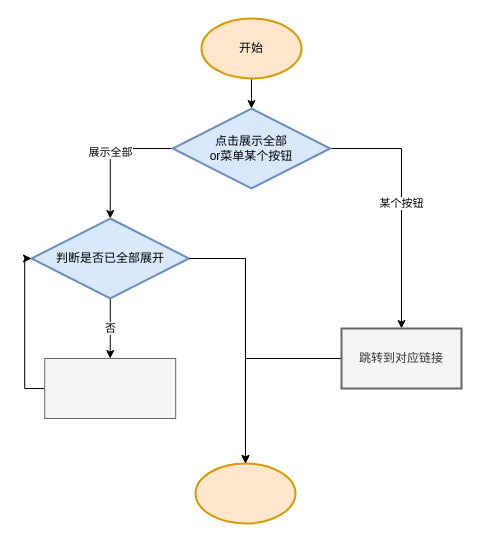
This 480x541 diagram has some shape labels left out. Each missing label, with the centre of its shape:
"展开下一级菜单的内容" belongs at pixel 110 388.
"结束" belongs at pixel 245 493.
